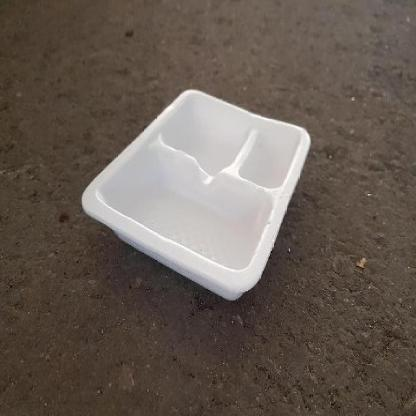Glass Cup: (81, 89, 312, 302), (82, 89, 311, 299)
